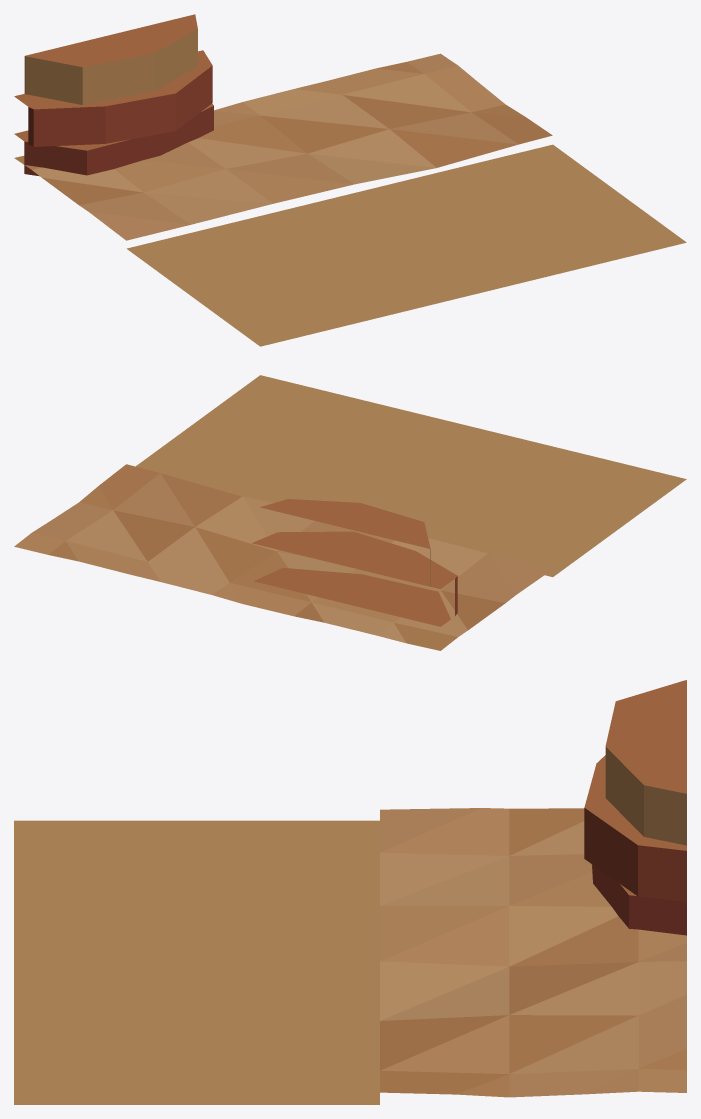
The picture shows the model from 3 angles, top to bottom: view 1: azimuth 30°, elevation 25°; view 2: azimuth 150°, elevation 25°; view 3: azimuth 270°, elevation 25°; orthographic projection. The views are drawn at different scales.
Parts seen in each view (by area): view 1: baked; view 2: baked; view 3: baked.
Part boxes in pixels (x1,y1,x2,y2): baked: (14,14,686,346); baked: (14,375,686,650); baked: (14,680,686,1104).
Bounding box in the file's own units: 62.5 × 15.11 × 62.5.
